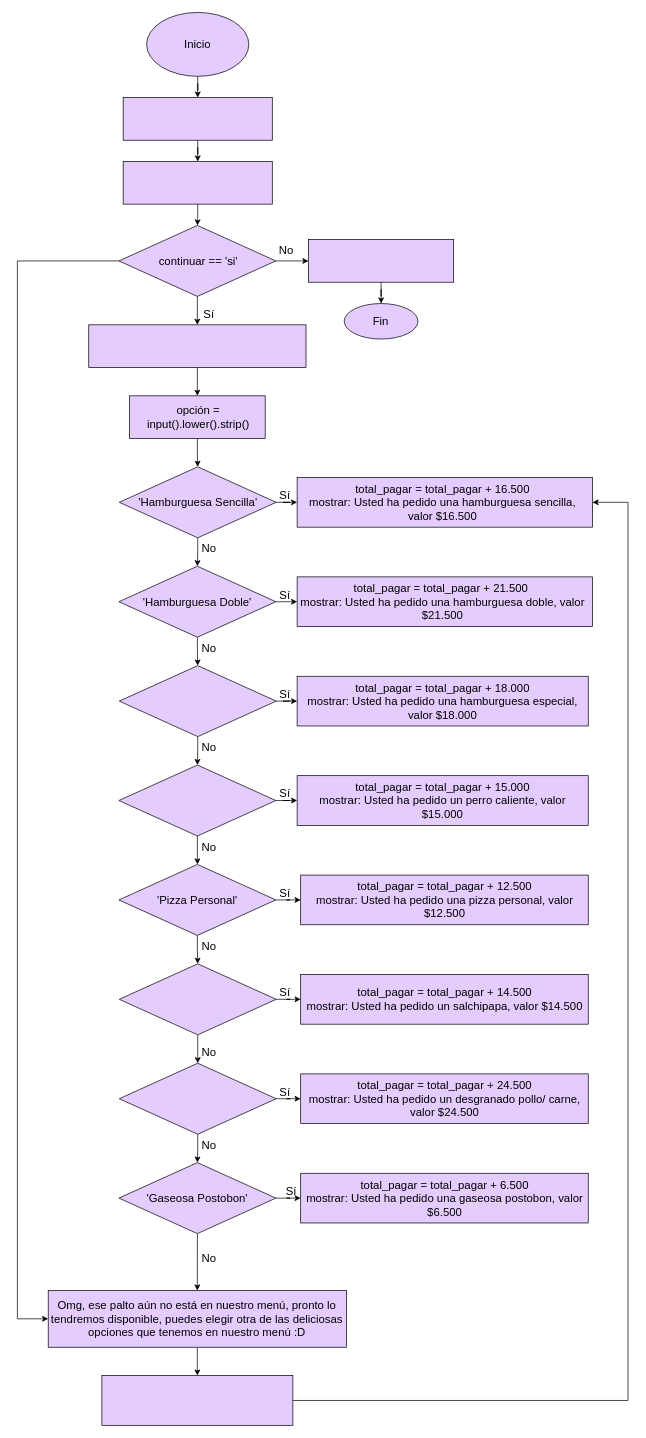
The diagram is 646 pixels wide and 1438 high, and some of its shapes have lost their labels. The centre of each missing label's shape, as x and y in pixels:
"'Desgranado de pollo/carne'" goes at [197,1098].
"'Hamburguesa Especial'" goes at [197,701].
"'Perro Caliente'" goes at [197,800].
"'Salchipapa'" goes at [197,999].
"continuar = 'si'" goes at [197,182].
"Desea pedir otro producto (si/no) continuar = input().lower().strip()" goes at [197,1400].
"Gracias por su compra, el valor total a pagar es: $ total_pagar" goes at [381,260].
"menú de comida rápida (opciones de 1 a 8) ingrese el producto que desea pedir" goes at [197,345].
"total_pagar = 0" goes at [197,118].
